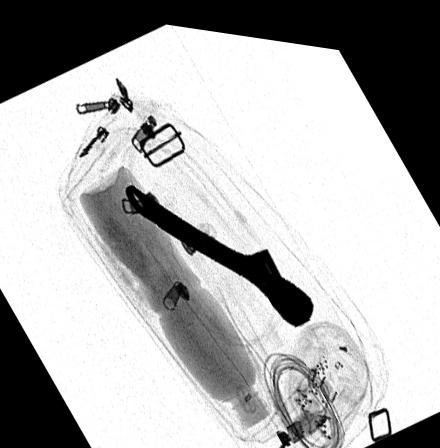Wrench: (122, 178, 316, 319)
